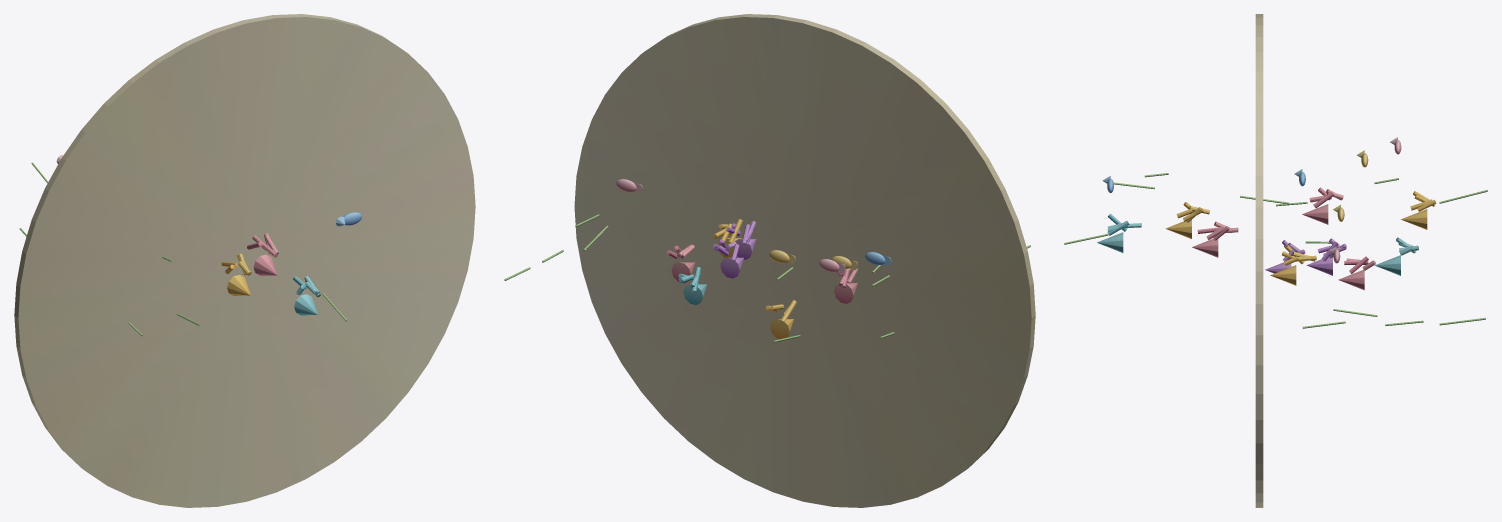
Rendered from ocean-floor.glb.
3 views of the same model, side by side, from view 1: azimuth 30°, elevation 25°; view 2: azimuth 150°, elevation 25°; view 3: azimuth 270°, elevation 25° (orthographic). The views are drawn at different scales.
Visible parts, largest first — view 1: seabed; view 2: seabed; view 3: seabed.
Boxes of the visible parts, x1,y1,x2,y2 form: seabed: [14, 14, 475, 507]; seabed: [574, 14, 1035, 507]; seabed: [1255, 14, 1263, 507].
Bounding box in the file's own units: 13 × 13 × 11.14.
